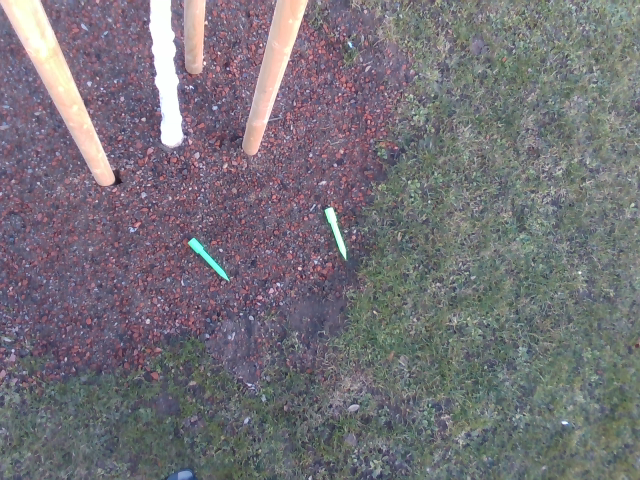Probe: (184, 231, 233, 288), (321, 204, 351, 266)
